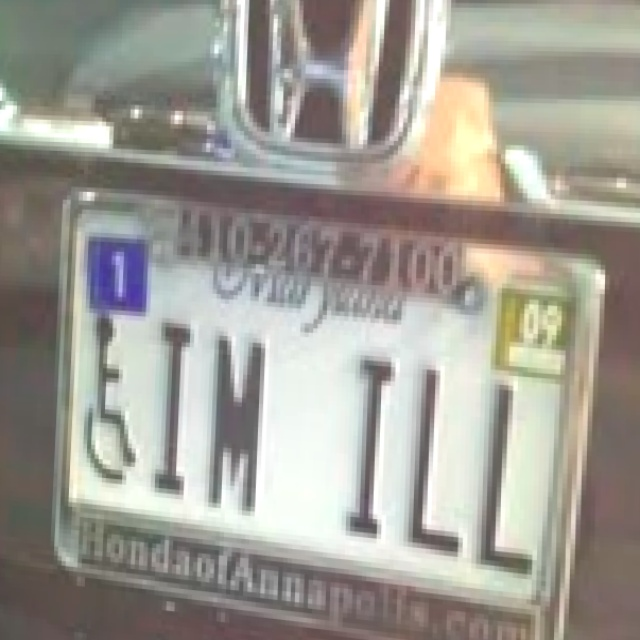ISA: (80, 313, 142, 484)
